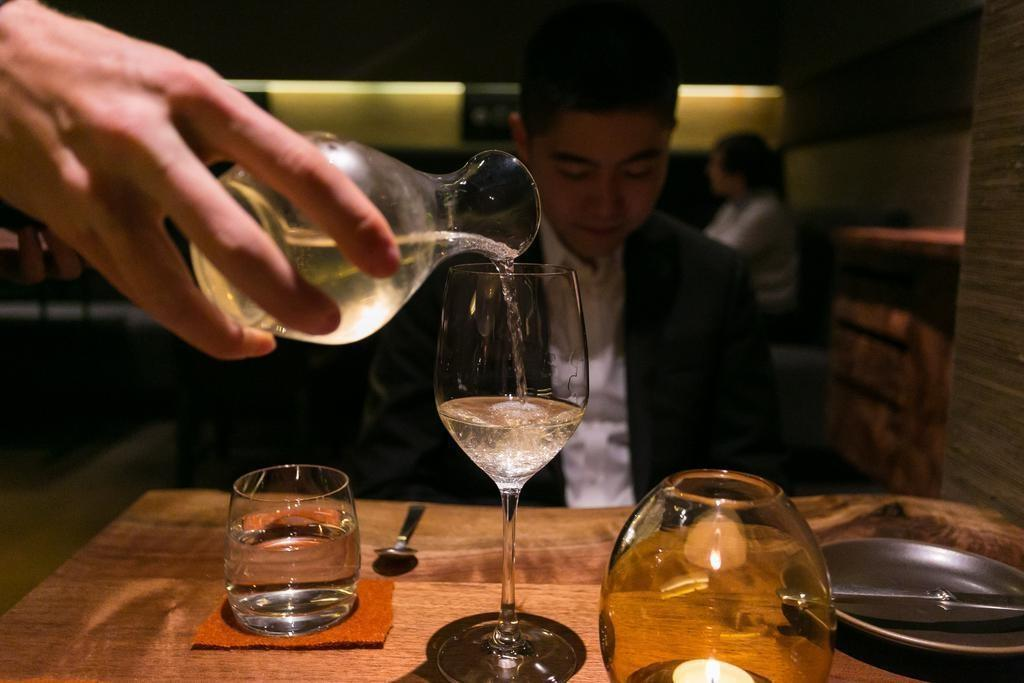glass-normal: (220, 459, 368, 641)
glass-wine: (433, 261, 589, 681)
